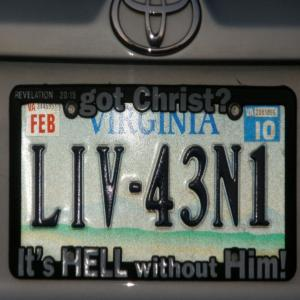Vehicle-registration-plate: (8, 85, 299, 279)
